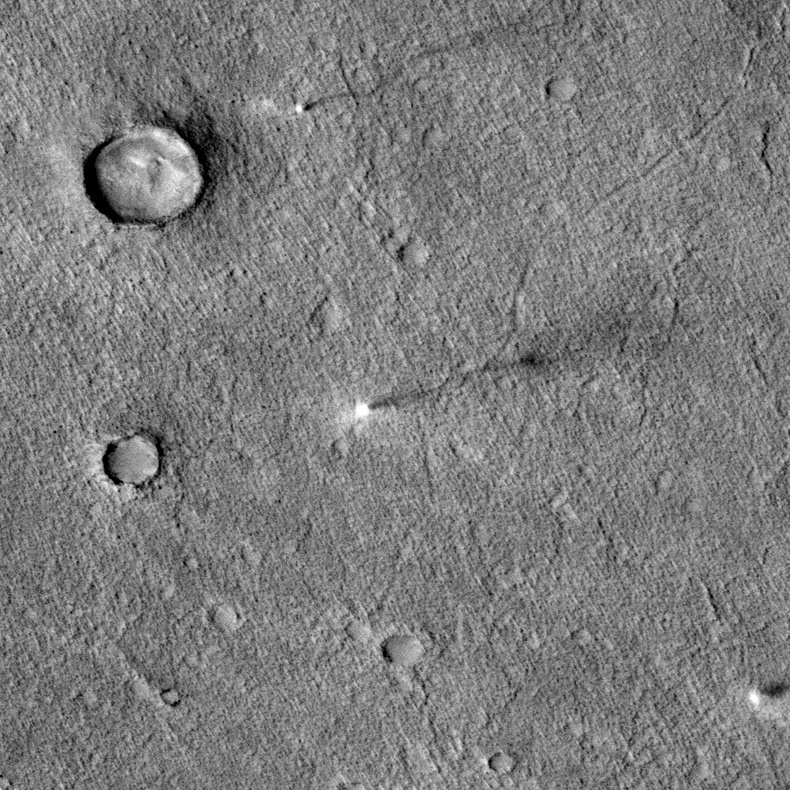dust_devil: (353, 350, 555, 417), (293, 89, 368, 114), (747, 680, 790, 713)
